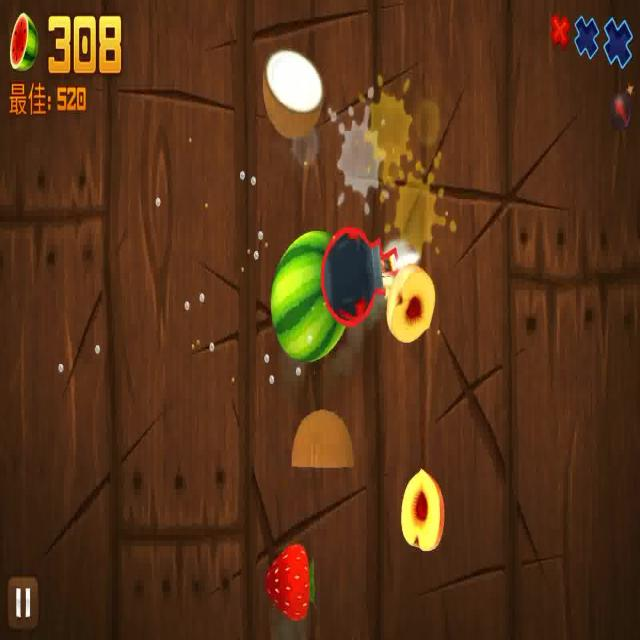bomb: (320, 212, 398, 330)
fruit: (272, 230, 344, 364), (287, 404, 365, 482), (261, 44, 322, 132), (397, 453, 444, 553), (389, 248, 432, 351), (266, 550, 323, 614)
